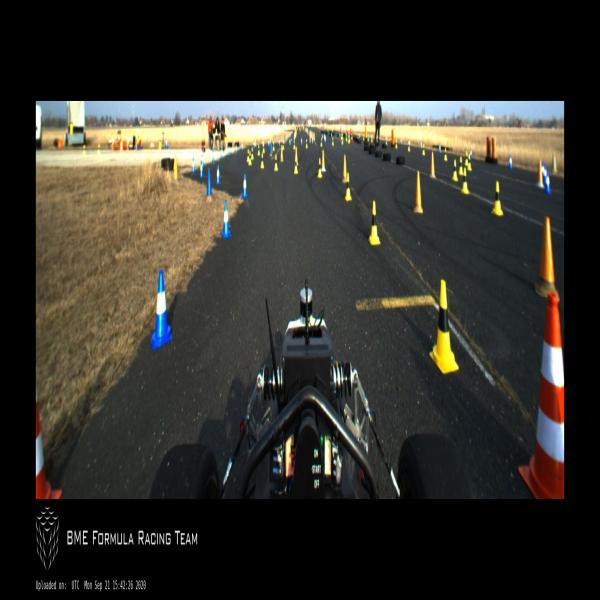blue_cone: (151, 269, 172, 350), (222, 199, 231, 237), (544, 170, 552, 195), (242, 173, 248, 196), (216, 164, 221, 184), (199, 160, 203, 178), (543, 166, 547, 184), (508, 154, 512, 170), (192, 157, 195, 173), (234, 143, 238, 154), (212, 149, 215, 163), (220, 147, 223, 159), (165, 139, 168, 149), (202, 153, 204, 167), (311, 137, 314, 145), (439, 142, 441, 154), (399, 138, 402, 146), (228, 145, 230, 156), (470, 149, 472, 160), (321, 132, 324, 139), (300, 137, 302, 146), (241, 142, 243, 150), (268, 138, 270, 146), (253, 140, 255, 148), (420, 141, 422, 149), (324, 132, 326, 140), (289, 138, 291, 145), (278, 140, 280, 146), (359, 134, 361, 139), (325, 136, 326, 144), (331, 132, 332, 138), (339, 132, 340, 137)
large_orange_cone: (518, 292, 564, 498), (36, 392, 61, 499)
unknown_cone: (534, 215, 560, 301), (413, 171, 424, 213), (205, 168, 213, 201), (536, 159, 544, 187), (429, 151, 436, 179), (552, 151, 558, 172), (173, 156, 178, 180), (321, 149, 326, 171), (343, 154, 346, 182), (280, 146, 284, 162), (295, 146, 298, 164), (270, 144, 272, 157), (284, 135, 286, 141), (291, 134, 292, 141)
yellow_cone: (430, 280, 459, 374), (368, 201, 381, 245), (492, 181, 504, 217), (344, 173, 352, 201), (462, 168, 468, 194), (452, 161, 458, 181), (467, 153, 472, 172), (459, 156, 464, 174), (294, 154, 298, 173), (318, 159, 322, 178), (274, 153, 278, 170), (260, 153, 264, 168), (444, 147, 448, 162), (246, 149, 250, 163), (250, 146, 254, 160), (248, 152, 252, 165), (82, 144, 86, 157), (97, 143, 101, 156), (465, 150, 468, 166), (158, 137, 162, 148), (422, 144, 425, 156), (257, 144, 260, 156), (272, 140, 275, 151), (395, 138, 398, 148), (262, 144, 265, 154), (341, 136, 344, 146), (347, 136, 350, 146), (305, 140, 308, 148), (320, 139, 323, 147), (282, 140, 284, 151), (408, 142, 410, 152), (293, 140, 295, 150), (370, 134, 372, 144), (332, 137, 334, 146), (367, 133, 369, 142), (346, 132, 348, 141), (312, 132, 314, 141), (310, 130, 312, 138), (357, 133, 359, 140), (386, 138, 388, 145), (294, 131, 296, 138), (362, 134, 364, 140), (377, 135, 378, 143), (341, 132, 342, 139), (294, 133, 294, 139)
